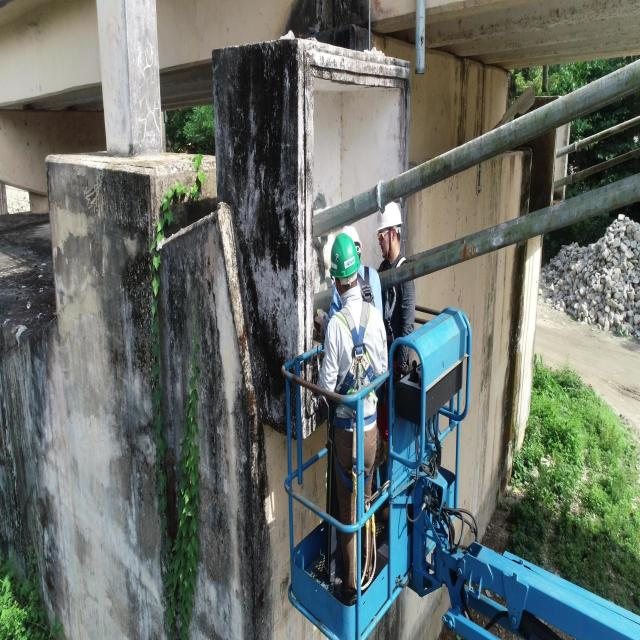corrosion: (462, 242, 468, 260), (410, 269, 416, 280), (470, 246, 476, 256)
crack: (551, 210, 554, 226), (601, 79, 603, 89), (534, 111, 536, 121), (615, 73, 617, 82), (582, 89, 584, 98), (442, 156, 443, 165), (588, 86, 588, 96), (566, 96, 566, 106)
